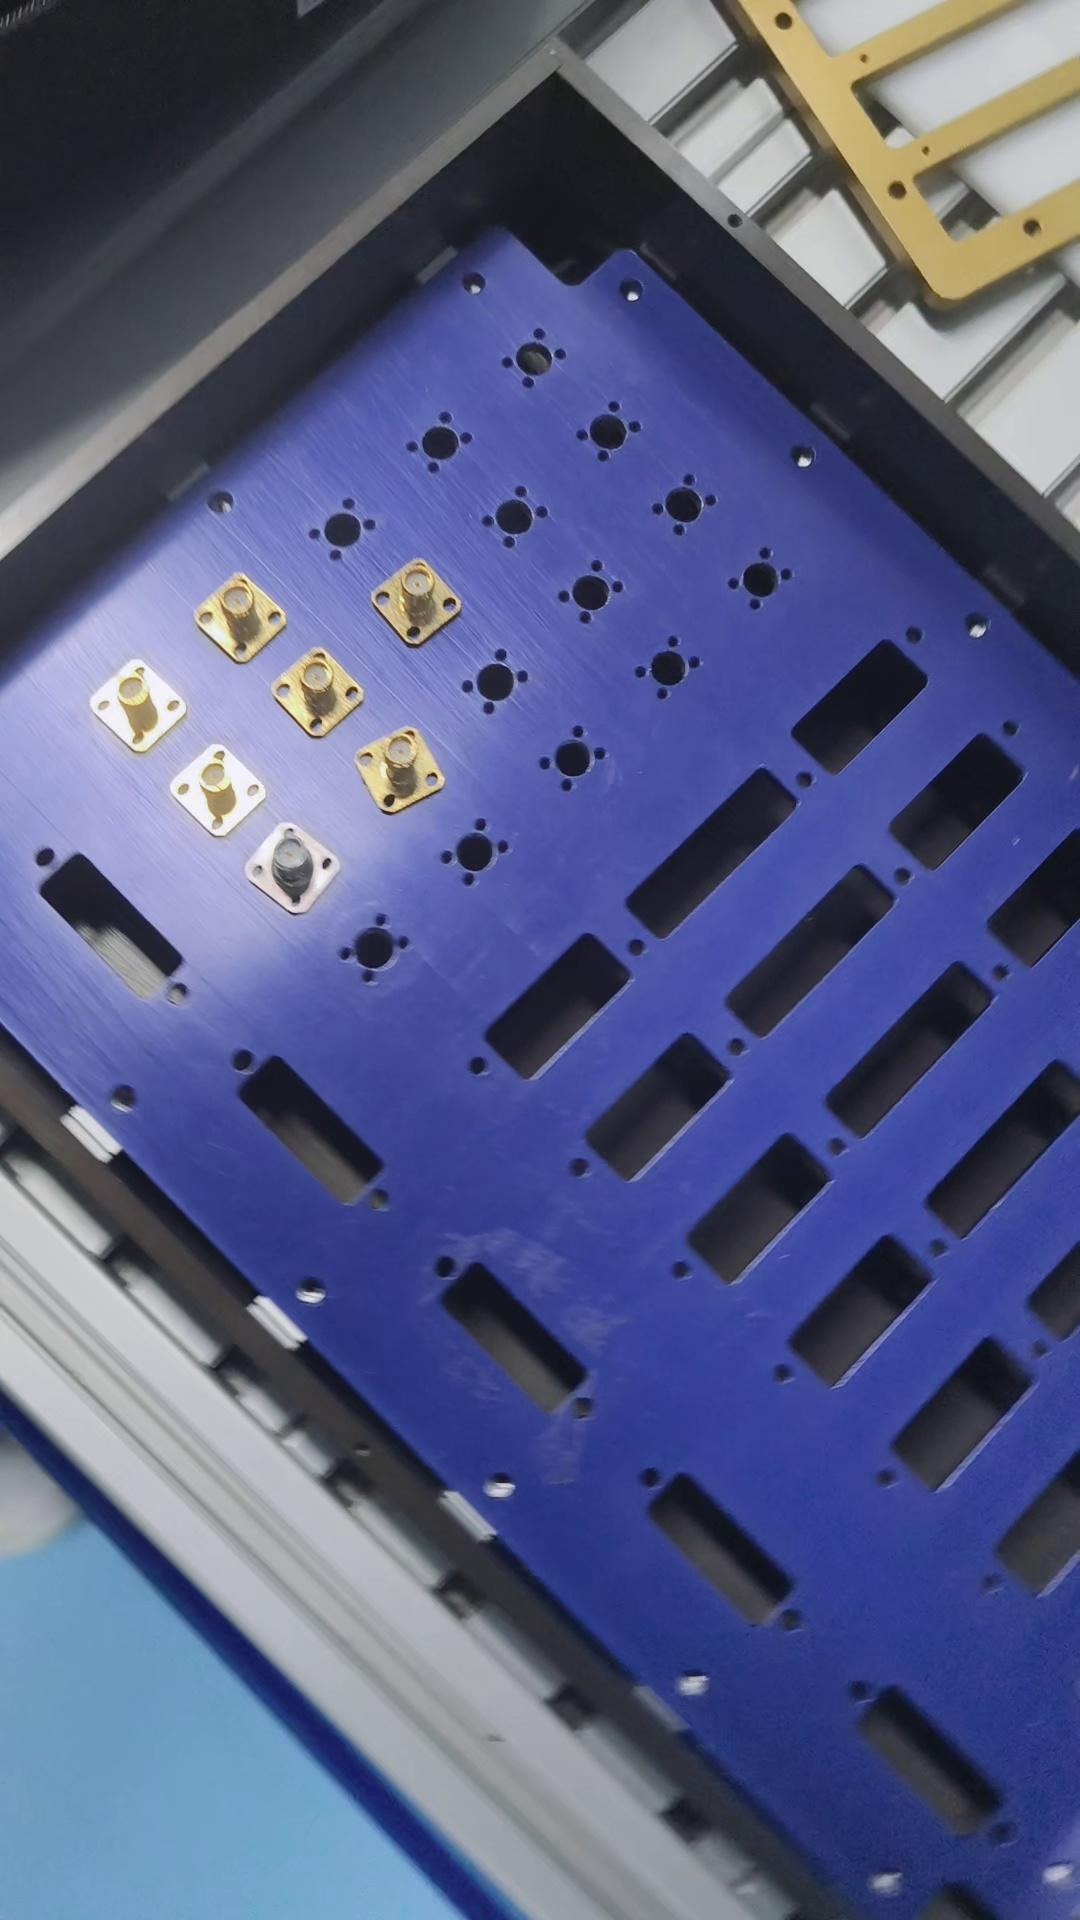SMA: (88, 655, 189, 752), (277, 644, 369, 740), (247, 816, 343, 909), (173, 744, 272, 832), (195, 572, 287, 662), (357, 724, 448, 812), (373, 556, 463, 642)
